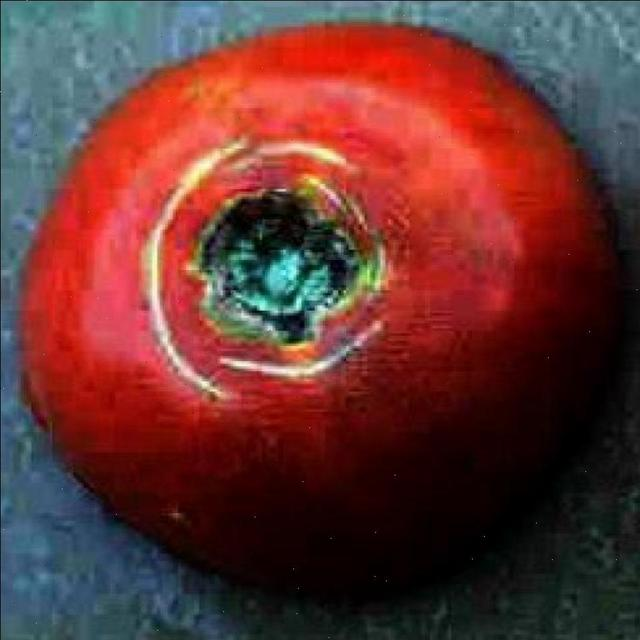Blossom End Rot Fruit: (137, 122, 252, 225)
